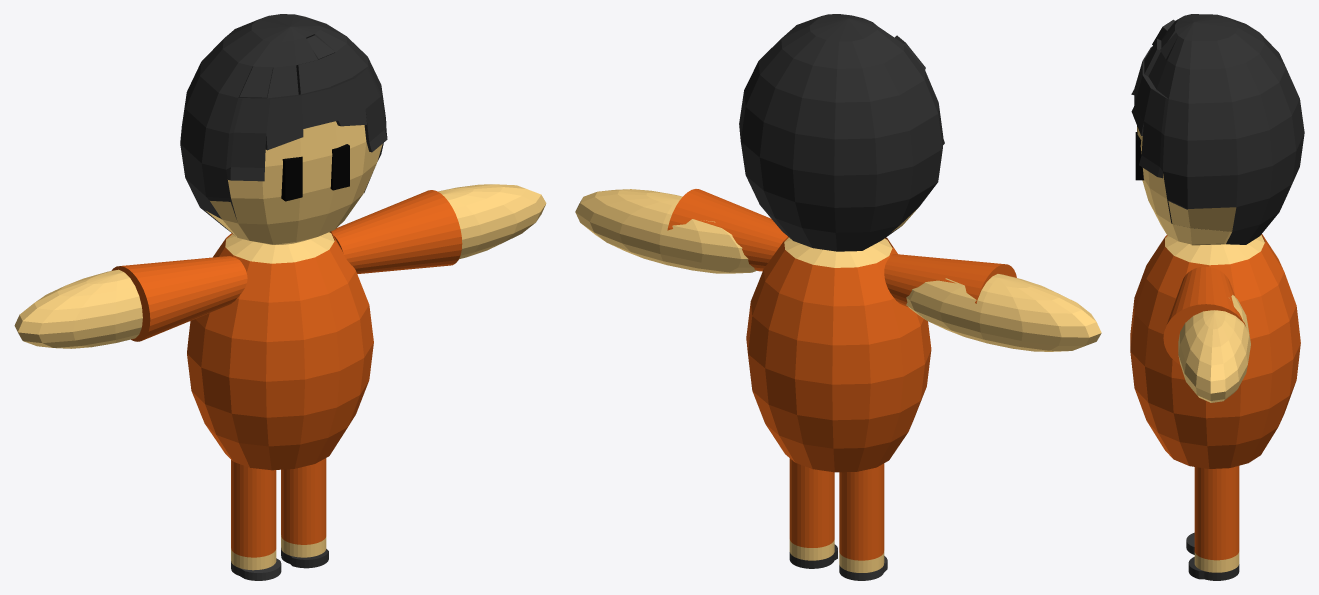
File: chef_outfitTahanan.glb
The picture shows the model from 3 angles, left to right: view 1: azimuth 30°, elevation 25°; view 2: azimuth 150°, elevation 25°; view 3: azimuth 270°, elevation 25°; orthographic projection.
Visible parts, largest first — view 1: head.022, body.022, rightArm.022, leftArm.022, rightLeg.022, leftLeg.022; view 2: head.022, body.022, rightArm.022, leftArm.022, rightLeg.022, leftLeg.022; view 3: head.022, body.022, leftArm.022, leftLeg.022.
Part boxes in pixels (x1,y1,x2,y2): head.022: (180, 14, 387, 244); body.022: (187, 231, 373, 470); rightArm.022: (14, 256, 247, 348); leftArm.022: (331, 184, 546, 273); rightLeg.022: (231, 460, 281, 580); leftLeg.022: (281, 458, 328, 568); head.022: (739, 14, 944, 251); body.022: (746, 237, 931, 472); rightArm.022: (884, 254, 1101, 351); leftArm.022: (575, 189, 787, 273); rightLeg.022: (839, 463, 887, 580); leftLeg.022: (789, 458, 837, 568); head.022: (1131, 14, 1304, 245); body.022: (1130, 234, 1300, 468); leftArm.022: (1163, 266, 1250, 402); leftLeg.022: (1188, 466, 1239, 580).
Size of the model in its own units: 1.68 by 1.65 by 0.4853.
